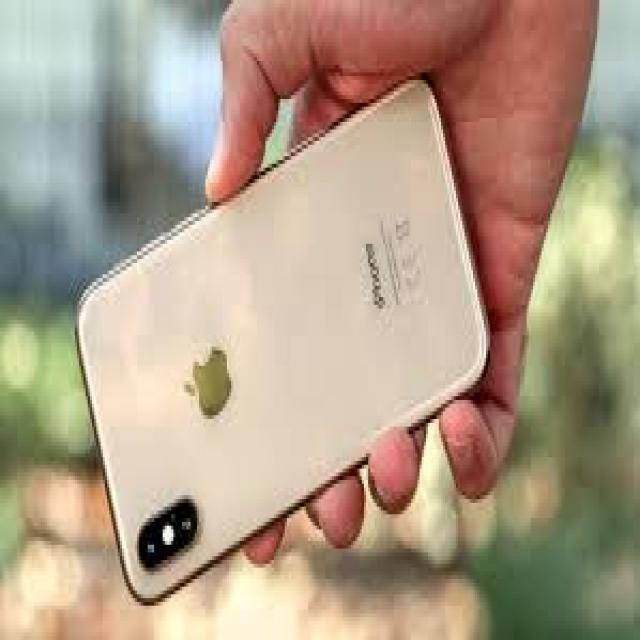mobile phone: (73, 72, 492, 606)
